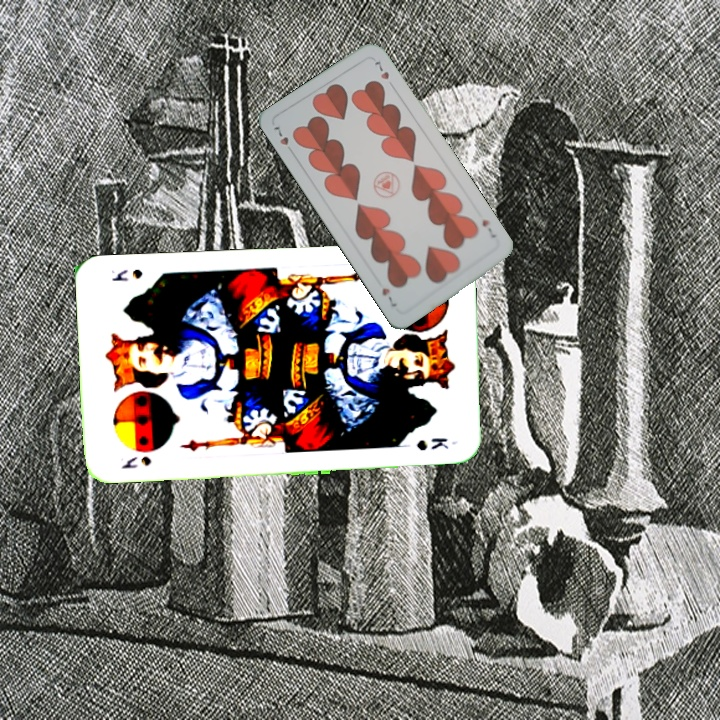H7: (270, 122, 291, 148), (478, 216, 499, 241)
SK: (117, 452, 154, 471)
